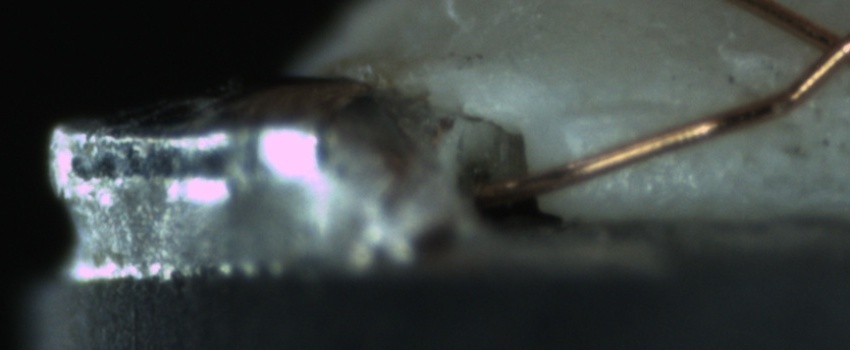CL: (802, 13, 850, 78)
DL: (562, 78, 703, 143)
